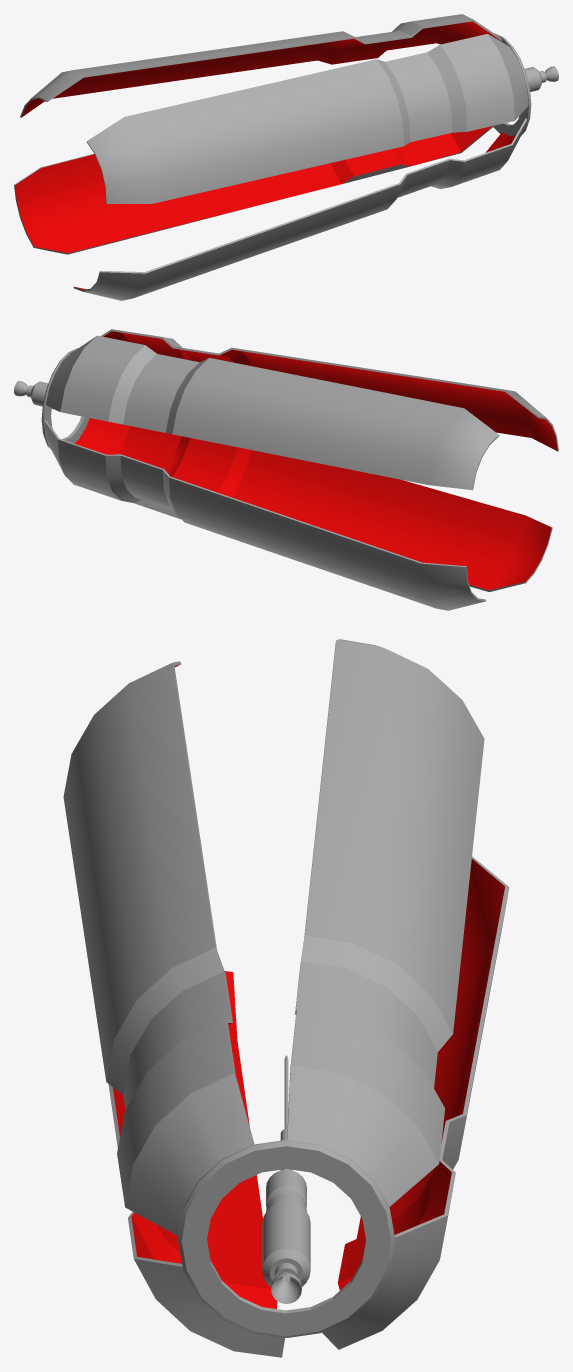
The model's file is space s 1.fbx.
3 views of the same model, one above another, from view 1: azimuth 30°, elevation 25°; view 2: azimuth 150°, elevation 25°; view 3: azimuth 270°, elevation 25° (orthographic). The views are drawn at different scales.
Visible parts, largest first — view 1: pCylinder10; view 2: pCylinder10; view 3: pCylinder10.
Part boxes in pixels (left/top/right/bottom): pCylinder10: left=14, top=14, right=558, bottom=300; pCylinder10: left=14, top=329, right=558, bottom=610; pCylinder10: left=63, top=639, right=509, bottom=1357.
Bounding box in the file's own units: 84.36 × 32.92 × 32.92.
